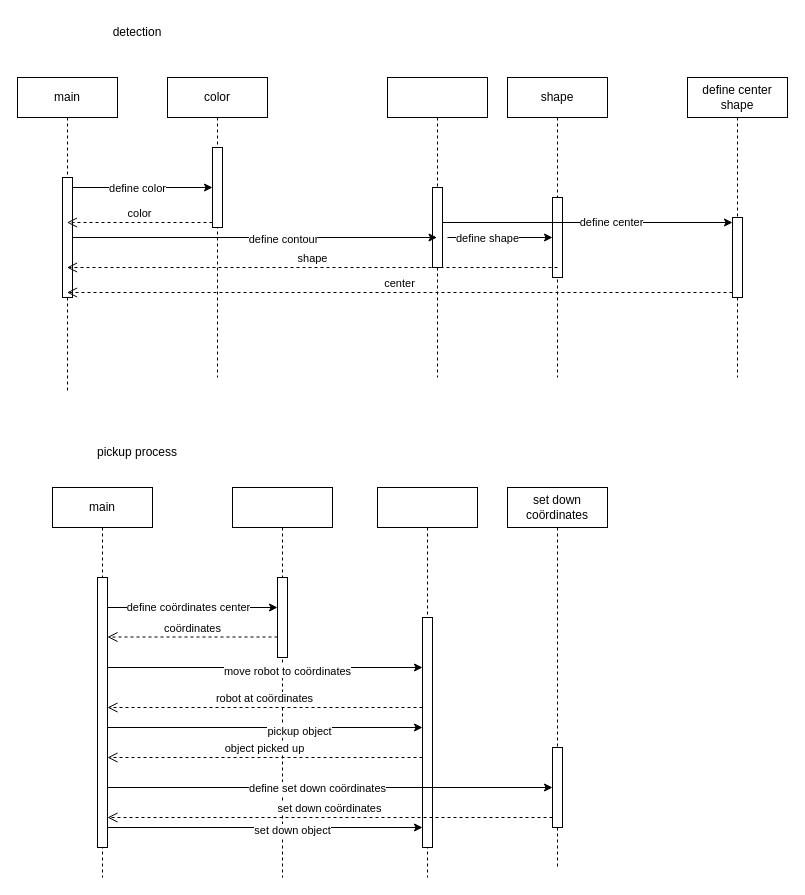
The diagram is 805 pixels wide and 895 high, and some of its shapes have lost their labels. Each missing label, with the box of its shape:
contour: (386, 76, 488, 378)
pickup coördinates: (232, 486, 332, 878)
robotmovements: (376, 486, 478, 878)
